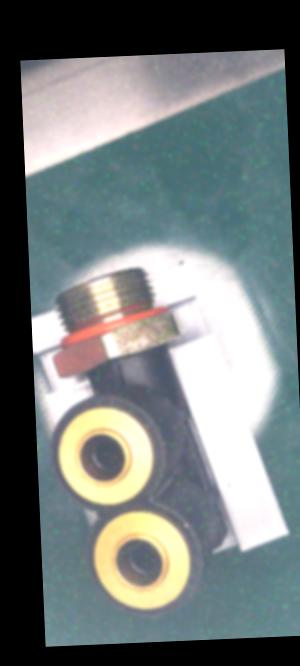craze: (110, 355, 134, 388)
